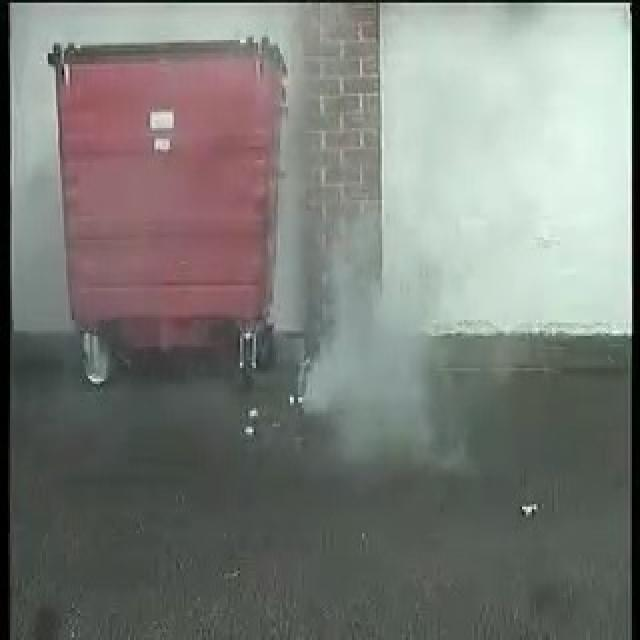Smoke: (298, 211, 398, 448)
